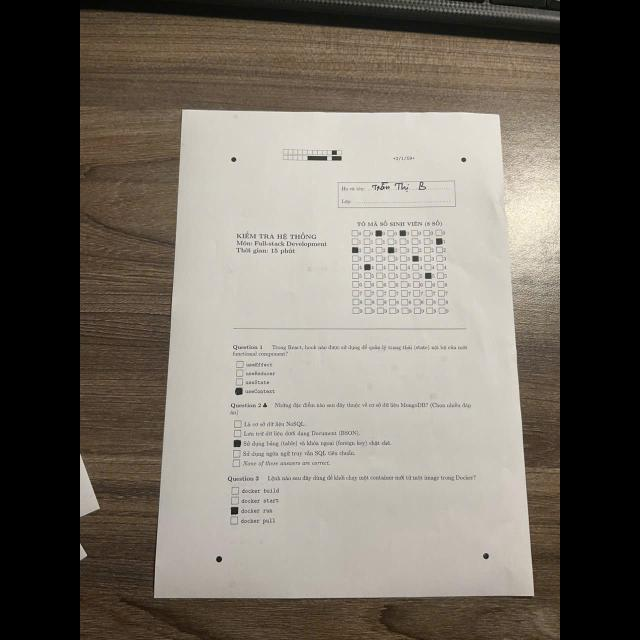Markers: (483, 552, 489, 560), (461, 157, 467, 163), (216, 556, 222, 562), (231, 158, 237, 162)
